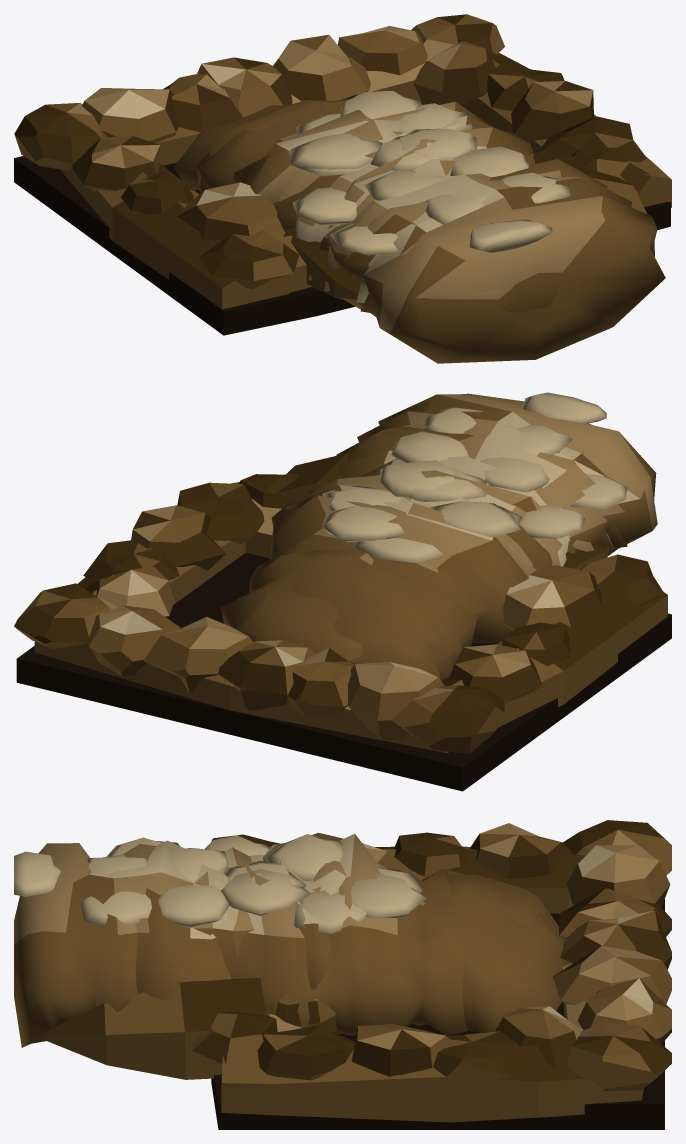
Rendered from newsh8-9-f6.glb.
3 views of the same model, one above another, from view 1: azimuth 30°, elevation 25°; view 2: azimuth 150°, elevation 25°; view 3: azimuth 270°, elevation 25° (orthographic). The views are drawn at different scales.
Visible parts, largest first — view 1: newsh8-9-f6, newsh8-9-f6-worm-51, newsh8-9-f6-worm-49; view 2: newsh8-9-f6, newsh8-9-f6-worm-51, newsh8-9-f6-worm-49; view 3: newsh8-9-f6, newsh8-9-f6-worm-51, newsh8-9-f6-worm-49.
Boxes of the visible parts, x1,y1,x2,y2 form: newsh8-9-f6: [14, 14, 671, 335]; newsh8-9-f6-worm-51: [174, 90, 665, 363]; newsh8-9-f6-worm-49: [195, 98, 607, 313]; newsh8-9-f6: [14, 453, 671, 791]; newsh8-9-f6-worm-51: [249, 392, 657, 681]; newsh8-9-f6-worm-49: [220, 424, 627, 671]; newsh8-9-f6: [42, 820, 671, 1129]; newsh8-9-f6-worm-51: [14, 833, 564, 1047]; newsh8-9-f6-worm-49: [87, 834, 563, 1032].
Size of the model in its own units: 2 by 0.6598 by 2.33.
